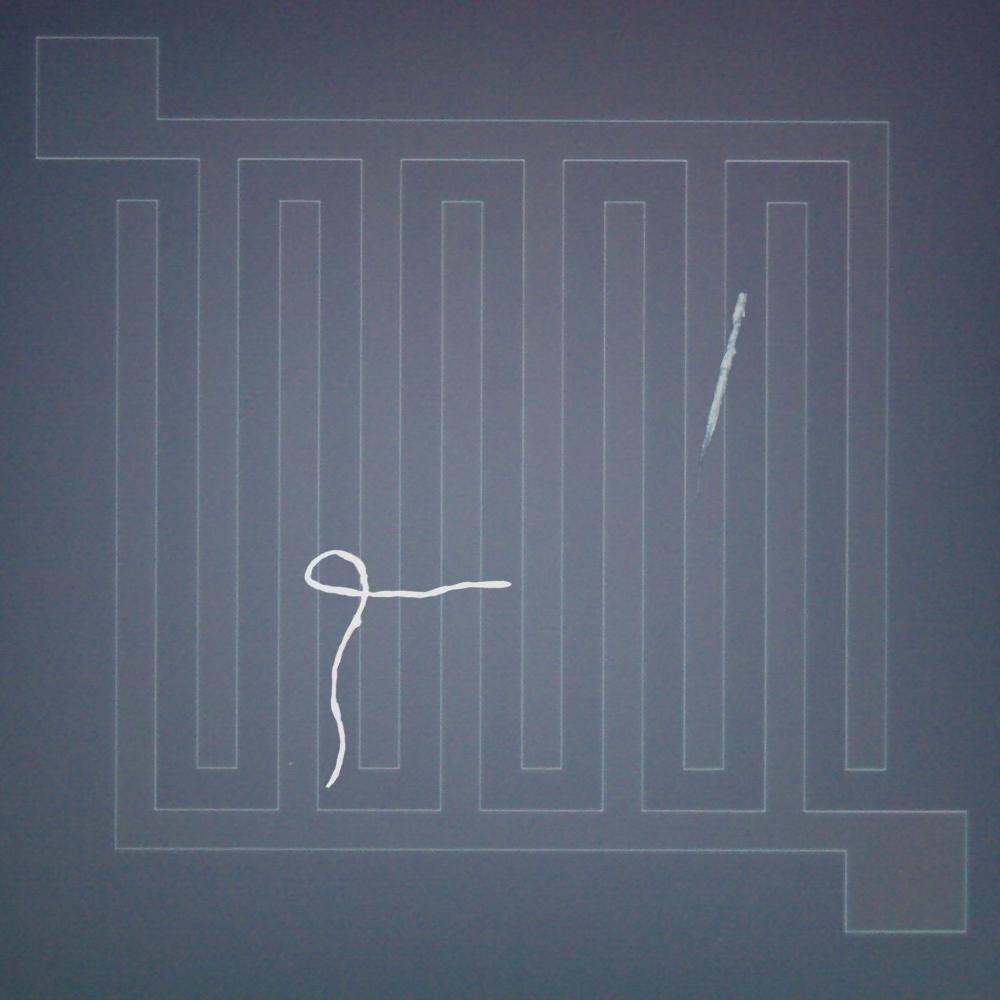line: (296, 540, 520, 791)
scratch: (694, 284, 753, 457)
